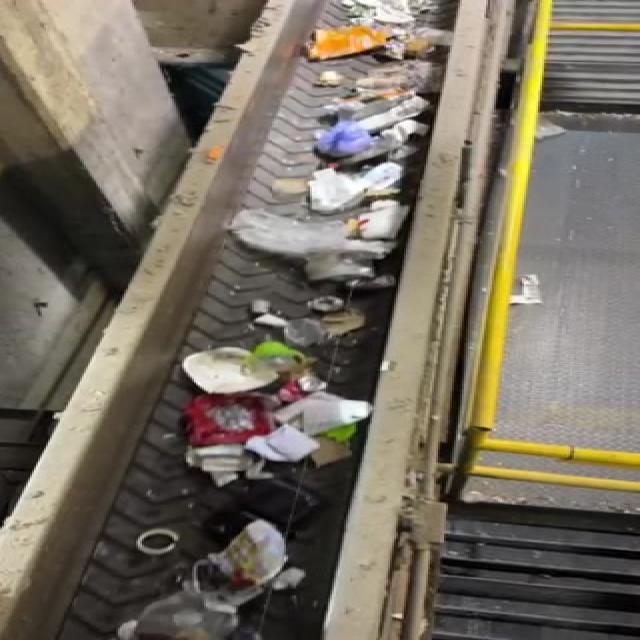pp: (217, 473, 320, 542)
